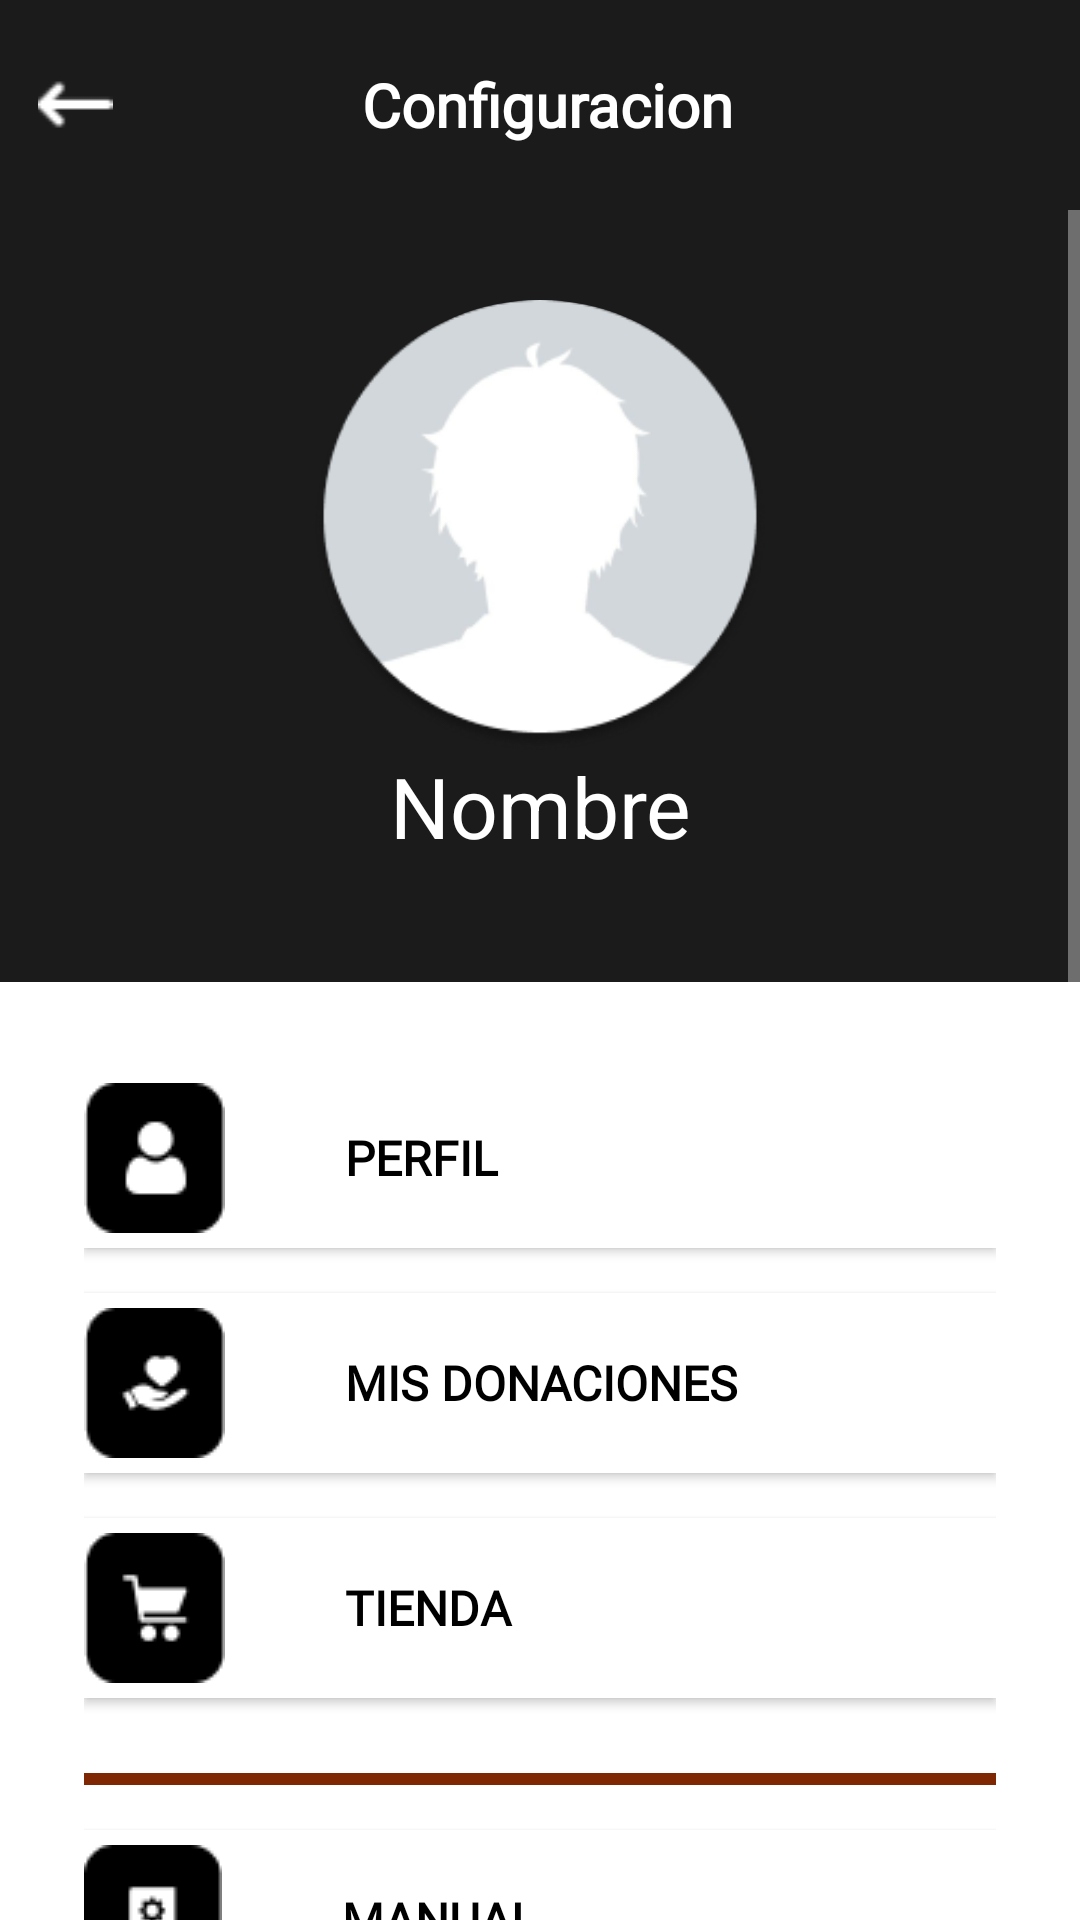

Icons on this 1080x1920 Android screen, each with the point to tap as [x,y]:
flechawhite: [75,104]
